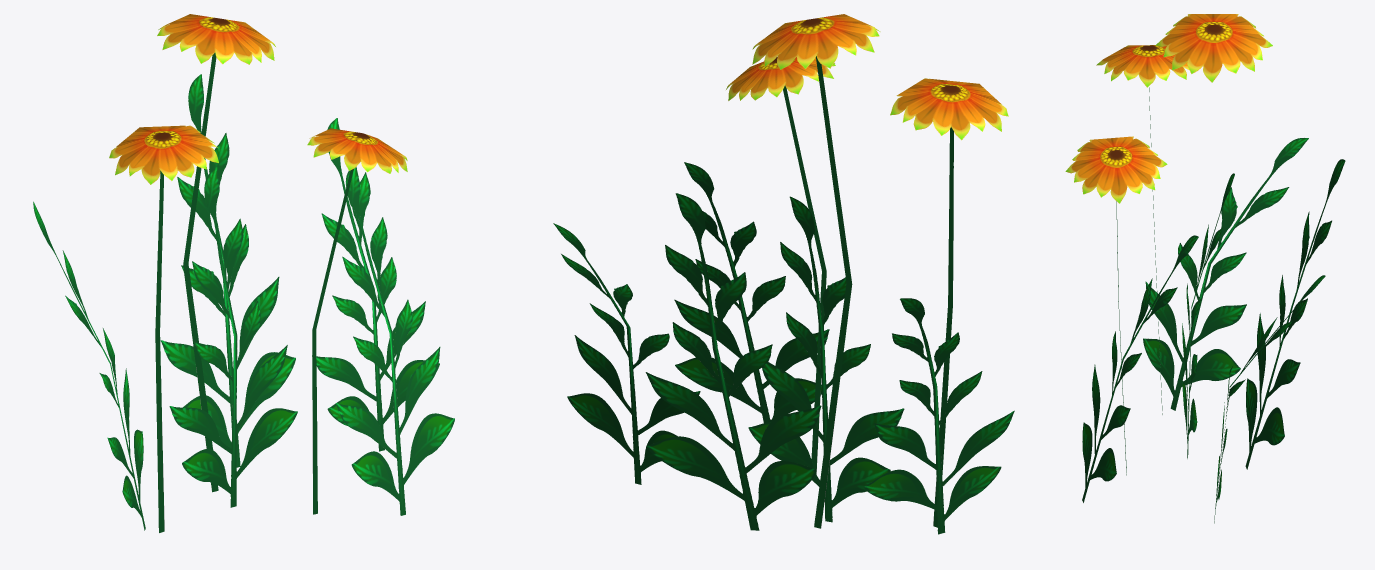
The model's file is Flower_04b.FBX.
3 renders of one model, left to right at view 1: azimuth 30°, elevation 25°; view 2: azimuth 150°, elevation 25°; view 3: azimuth 270°, elevation 25°, orthographic. The views are drawn at different scales.
Parts seen in each view (by area): view 1: Flower_04b; view 2: Flower_04b; view 3: Flower_04b.
Boxes of the visible parts, left/top/right/bottom form: Flower_04b: left=33, top=14, right=454, bottom=532; Flower_04b: left=553, top=14, right=1014, bottom=534; Flower_04b: left=1065, top=14, right=1345, bottom=523.
Size of the model in its own units: 26.55 by 28.85 by 18.31.
Materials: 1 (1 with a texture image).
